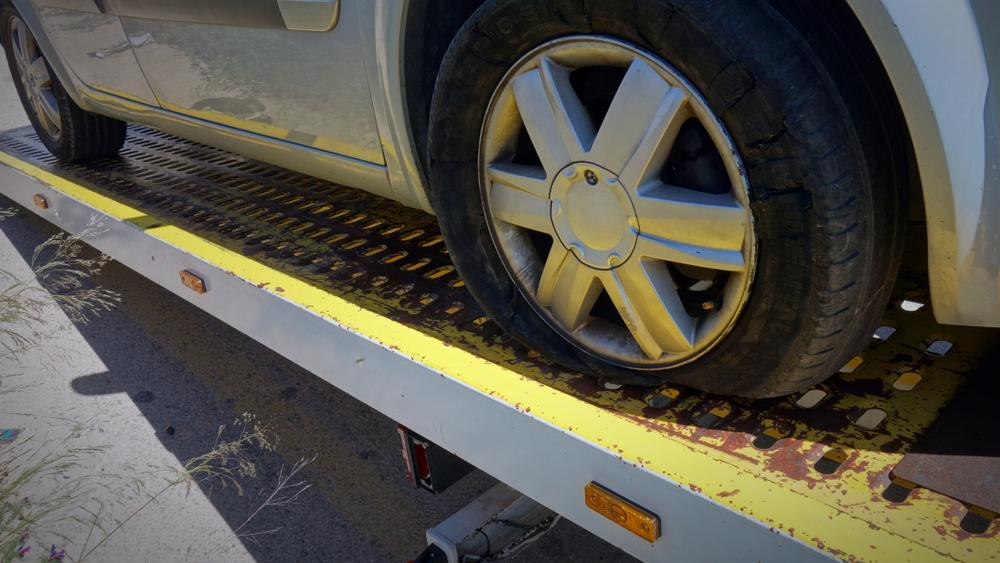tire flat: (429, 0, 910, 399)
